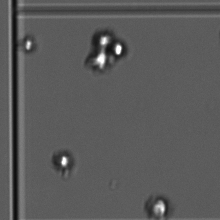Living Cell: (88, 27, 113, 68), (147, 192, 175, 219), (53, 143, 78, 172), (21, 31, 40, 57), (113, 38, 132, 60)
